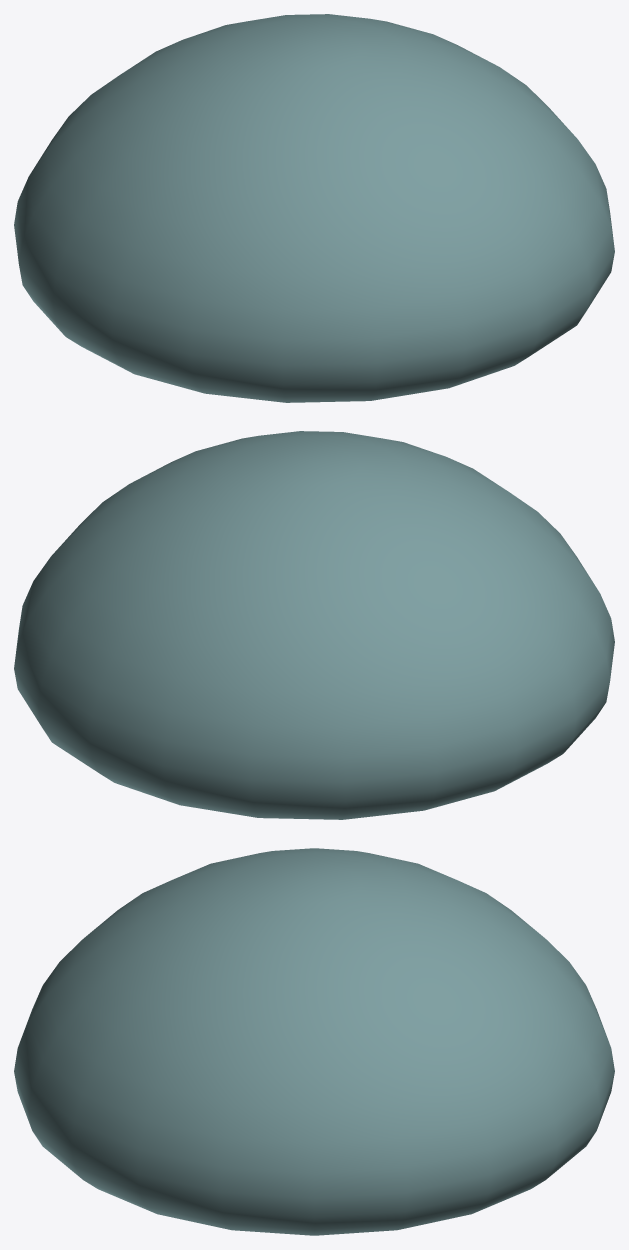
File: Slime Model.fbx
3 views of the same model, one above another, from view 1: azimuth 30°, elevation 25°; view 2: azimuth 150°, elevation 25°; view 3: azimuth 270°, elevation 25° (orthographic).
Visible parts, largest first — view 1: pSphere1; view 2: pSphere1; view 3: pSphere1.
Part boxes in pixels (x1,y1,x2,y2): pSphere1: [14, 14, 614, 402]; pSphere1: [14, 431, 614, 819]; pSphere1: [14, 848, 614, 1235].
Bounding box in the file's own units: 2 × 0.9729 × 2.
